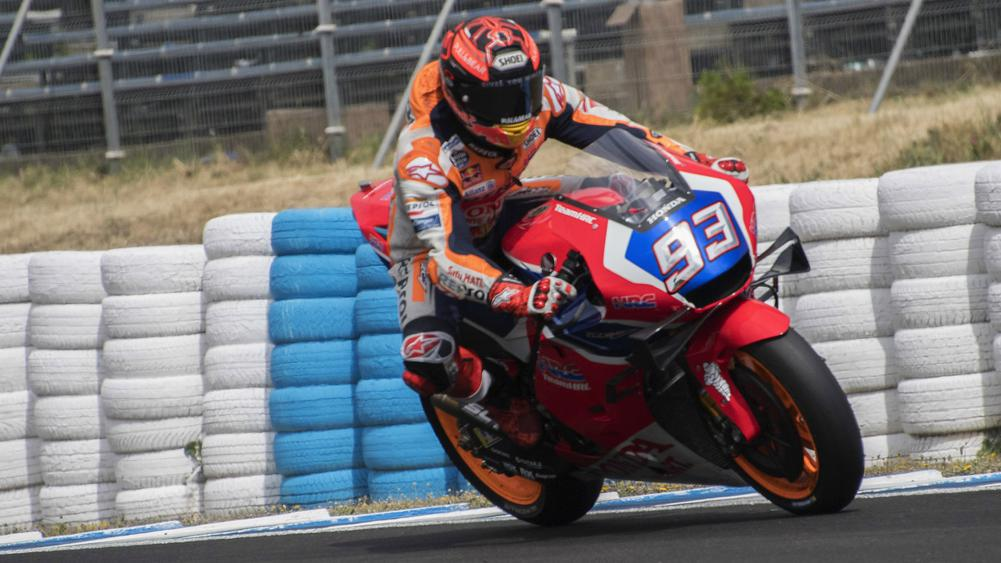helmet: (430, 11, 567, 157)
